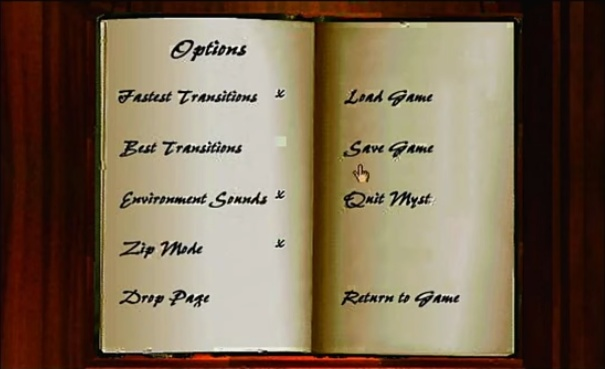Pointer: (350, 161, 373, 184)
